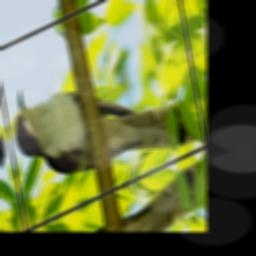Cuckoo: (8, 15, 201, 221)
